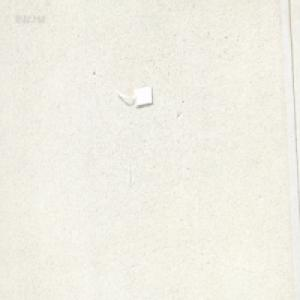LuggageTag: (114, 84, 153, 109)
